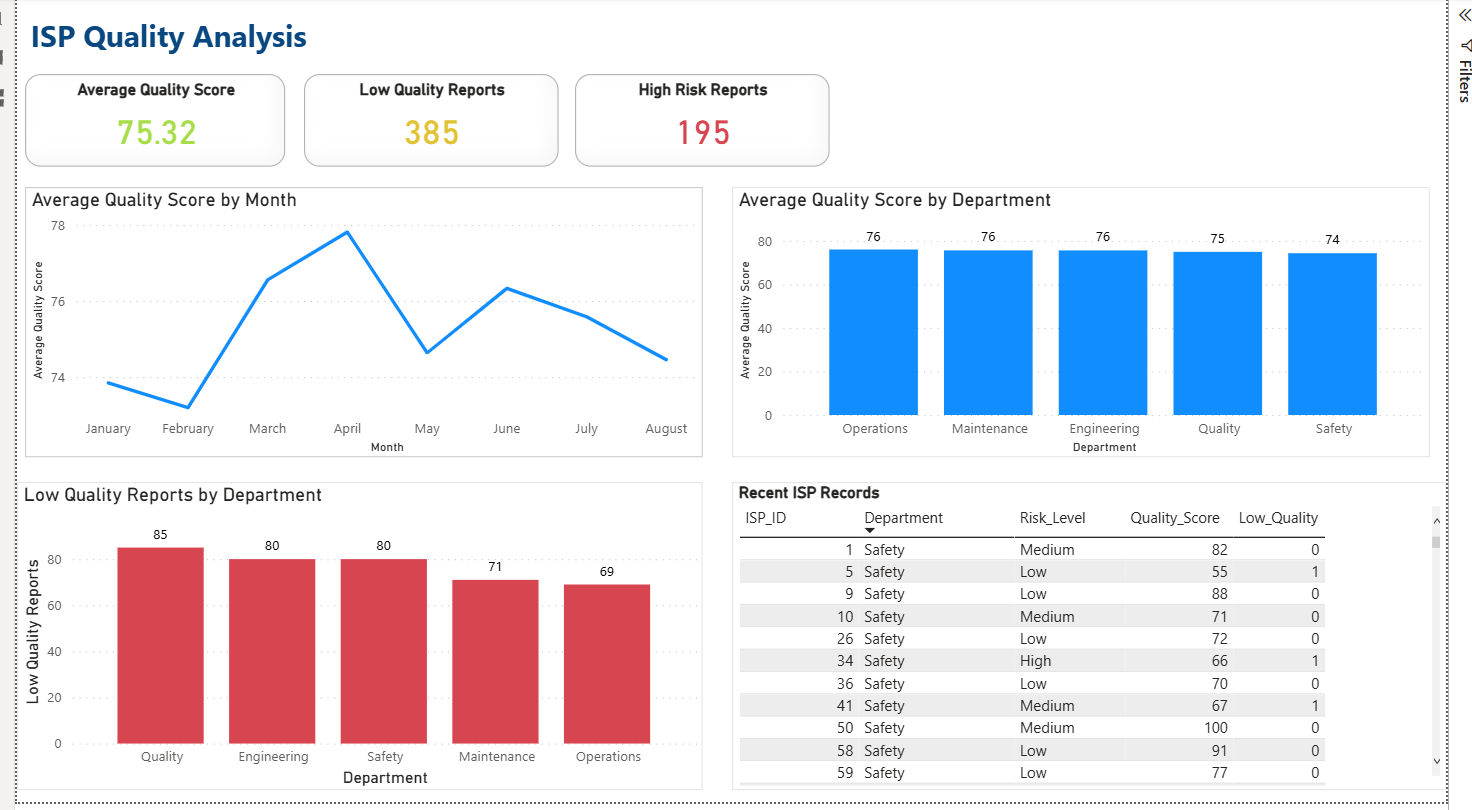

Layout of this report page (visuals, bound fields, positions):
{"tool":"powerbi","page":{"name":"Quality Analysis","canvas":[1280,720],"ordinal":1},"visuals":[{"type":"textbox","box":[6.8,9.7,396.8,58.4],"z":0},{"type":"card","title":"High Risk Reports","fields":{"Values":["cleaned_isp_safety_data.High Risk Reports"]},"box":[499.9,68.1,227.6,82.7],"z":1000},{"type":"card","title":"Low Quality Reports","fields":{"Values":["cleaned_isp_safety_data.Low Quality Reports"]},"box":[256.8,68.1,227.6,82.7],"z":2000},{"type":"card","title":"Average Quality Score","fields":{"Values":["cleaned_isp_safety_data.Average Quality Score"]},"box":[6.8,68.1,233.4,82.7],"z":3000},{"type":"lineChart","fields":{"Y":["cleaned_isp_safety_data.Average Quality Score"],"Category":["cleaned_isp_safety_data.Date.Variation.Date Hierarchy.Month"]},"box":[6.8,169.2,606.9,242.2],"z":4000},{"type":"clusteredColumnChart","fields":{"Y":["cleaned_isp_safety_data.Average Quality Score"],"Category":["cleaned_isp_safety_data.Department"]},"box":[640,169.2,625.4,242.2],"z":5000},{"type":"clusteredColumnChart","fields":{"Y":["cleaned_isp_safety_data.Low Quality Reports"],"Category":["cleaned_isp_safety_data.Department"]},"box":[0,433.8,613.7,276.2],"z":6000},{"type":"tableEx","title":"Recent ISP Records","fields":{"Values":["cleaned_isp_safety_data.ISP_ID","cleaned_isp_safety_data.Department","cleaned_isp_safety_data.Risk_Level","Sum(cleaned_isp_safety_data.Quality_Score)","Sum(cleaned_isp_safety_data.Low_Quality)"]},"box":[640,433.8,640,276.2],"z":7000}]}

Visuals, with their boxes on the page's 1280x720 design canvas (x1, y1, x2, y2). These are canvas units, not pixel positions in the 1472x810 screenshot, which may show the page scaled, cropped or inside an application window:
textbox: 7, 10, 404, 68
"High Risk Reports" card: 500, 68, 728, 151
"Low Quality Reports" card: 257, 68, 484, 151
"Average Quality Score" card: 7, 68, 240, 151
lineChart - cleaned_isp_safety_data.Average Quality Score x cleaned_isp_safety_data.Date.Variation.Date Hierarchy.Month: 7, 169, 614, 411
clusteredColumnChart - cleaned_isp_safety_data.Average Quality Score x cleaned_isp_safety_data.Department: 640, 169, 1265, 411
clusteredColumnChart - cleaned_isp_safety_data.Low Quality Reports x cleaned_isp_safety_data.Department: 0, 434, 614, 710
"Recent ISP Records" tableEx: 640, 434, 1280, 710
